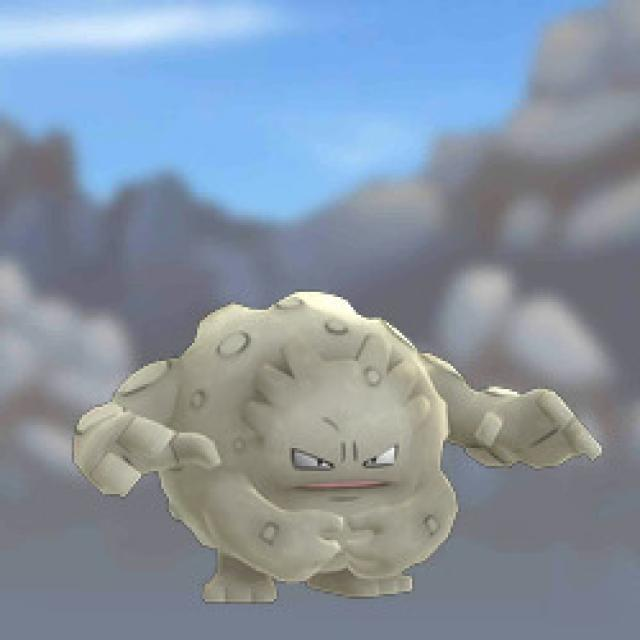Graveler: (49, 288, 598, 620)
